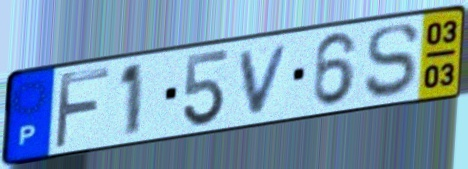1: (117, 60, 147, 139)
5: (180, 46, 232, 129)
6: (311, 29, 359, 110)
F: (51, 65, 113, 152)
S: (362, 21, 422, 102)
V: (236, 40, 294, 118)
